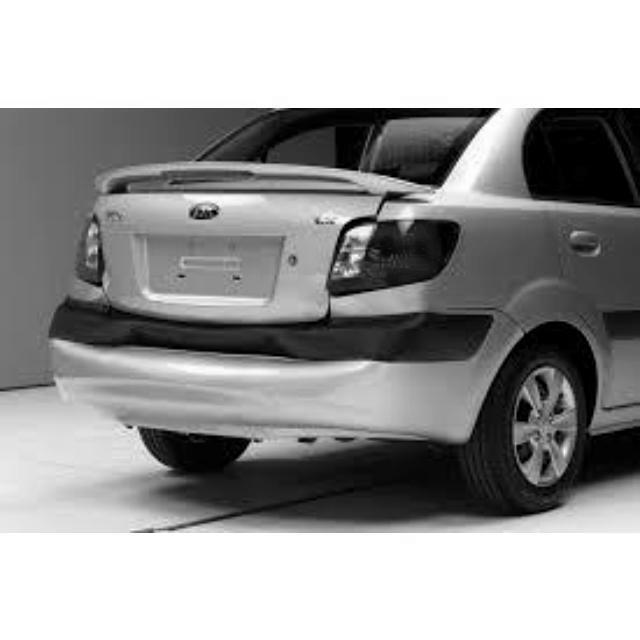rear-bumper-dent: (131, 303, 391, 435)
